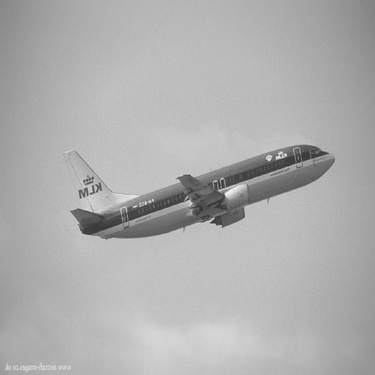airplane: (55, 141, 337, 243)
